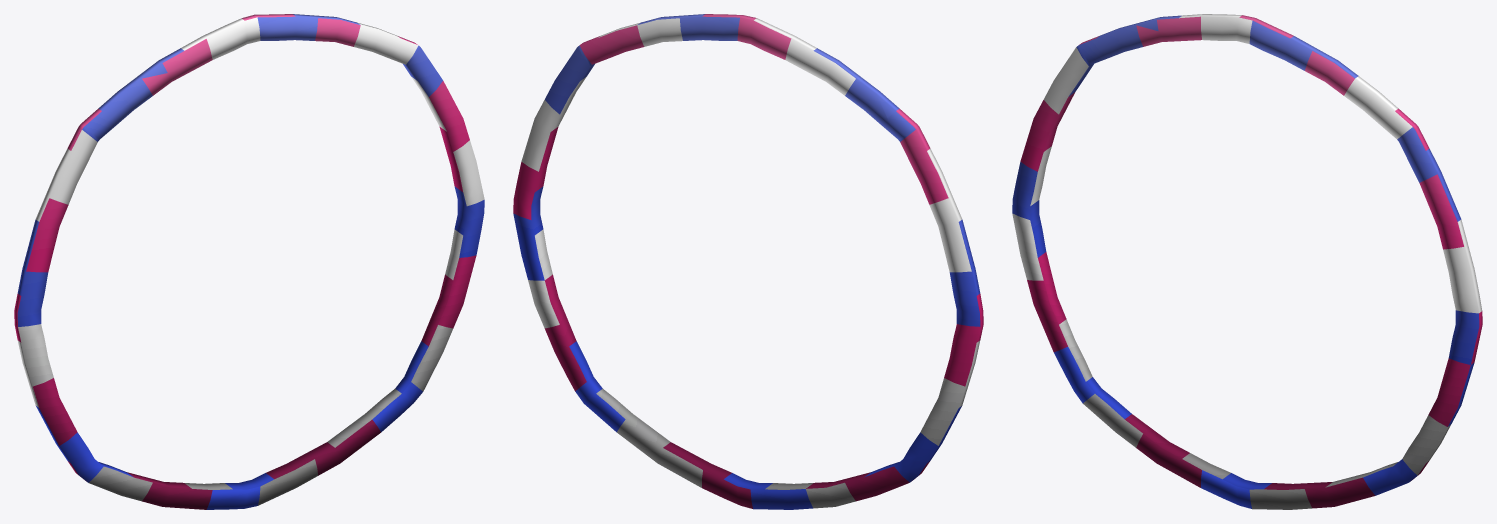
Rendered from hoop.fbx.
3 renders of one model, left to right at view 1: azimuth 30°, elevation 25°; view 2: azimuth 150°, elevation 25°; view 3: azimuth 330°, elevation 25°, orthographic.
Visible parts, largest first — view 1: hoop; view 2: hoop; view 3: hoop.
Boxes of the visible parts, x1,y1,x2,y2 form: hoop: (14, 14, 484, 509); hoop: (513, 14, 983, 509); hoop: (1012, 14, 1482, 509).
Size of the model in its own units: 75.75 by 75.75 by 2.51.
